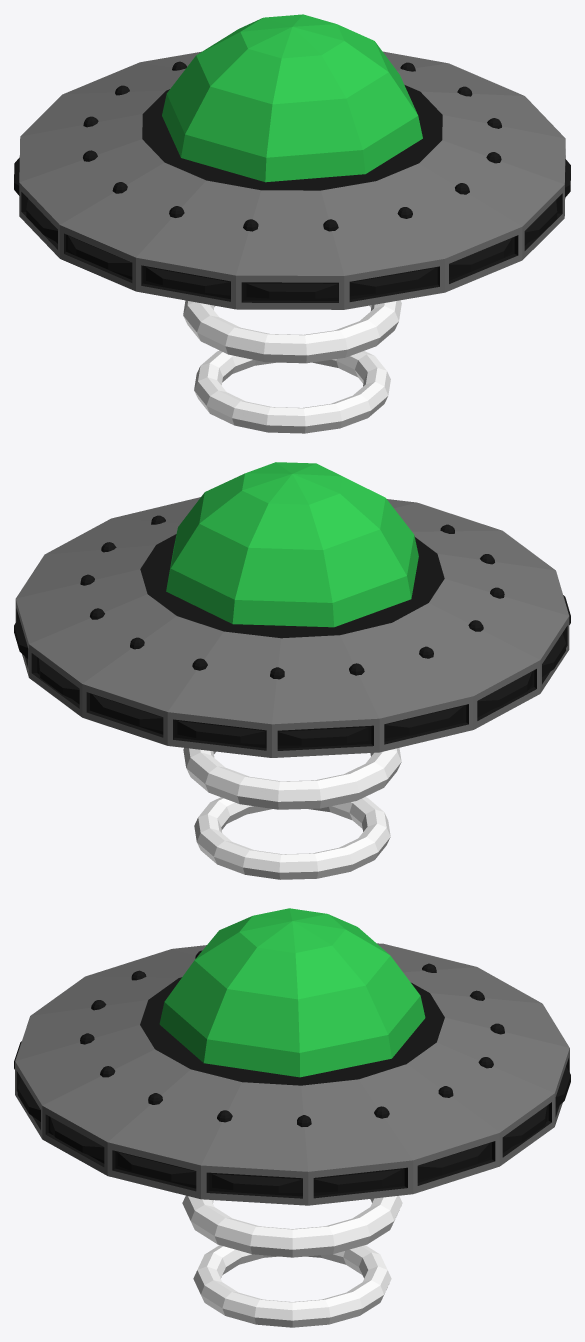
File: ufo.obj
3 views of the same model, one above another, from view 1: azimuth 30°, elevation 25°; view 2: azimuth 150°, elevation 25°; view 3: azimuth 270°, elevation 25° (orthographic).
Parts seen in each view (by area): view 1: Body; view 2: Body; view 3: Body.
Boxes of the visible parts, x1=… form: Body: x1=14, y1=14, x2=570, y2=433; Body: x1=14, y1=462, x2=570, y2=879; Body: x1=14, y1=908, x2=570, y2=1327.
Bounding box in the file's own units: 5.03 × 3.67 × 5.01.
